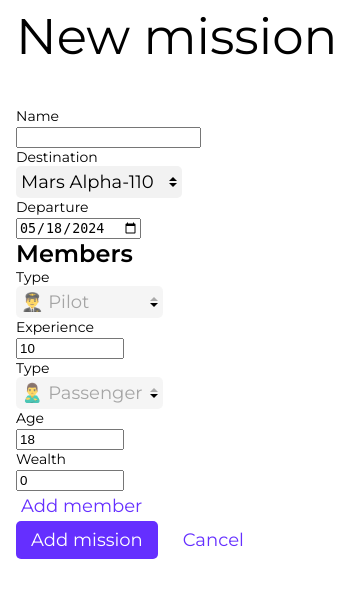
Test: Create mission › Should be able to select only one pilot
Replace the text in the number field named "members.0.experience" below "Experience" with "9": (70, 349) [16, 338, 124, 359]
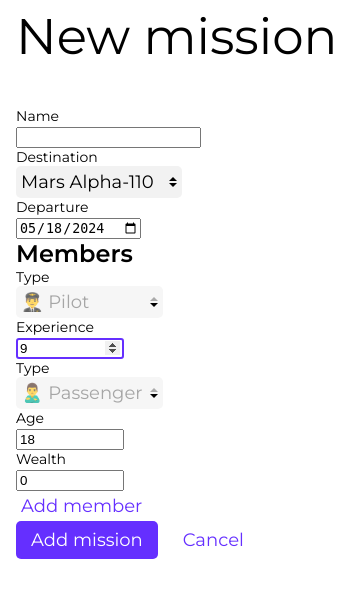
Click the button with test id "submit": (87, 540) [16, 521, 158, 559]
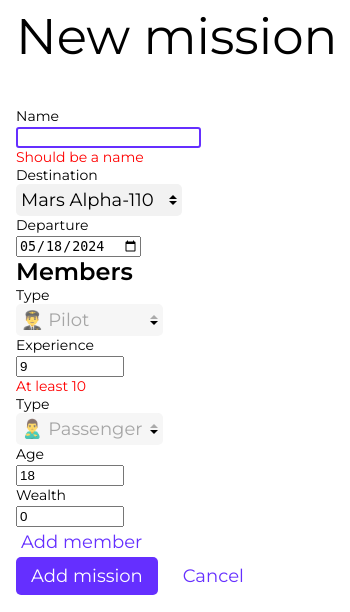
Expected: the text with test id "error" reads "At least 10", [16, 377, 86, 395]
